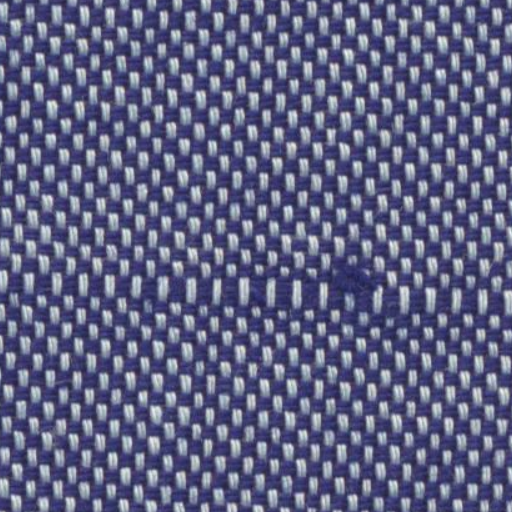DaiSha: (12, 246, 500, 338)
